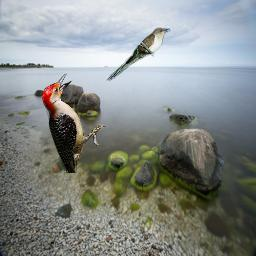Cuckoo: (106, 27, 172, 83)
Woodpecker: (42, 73, 108, 173)
